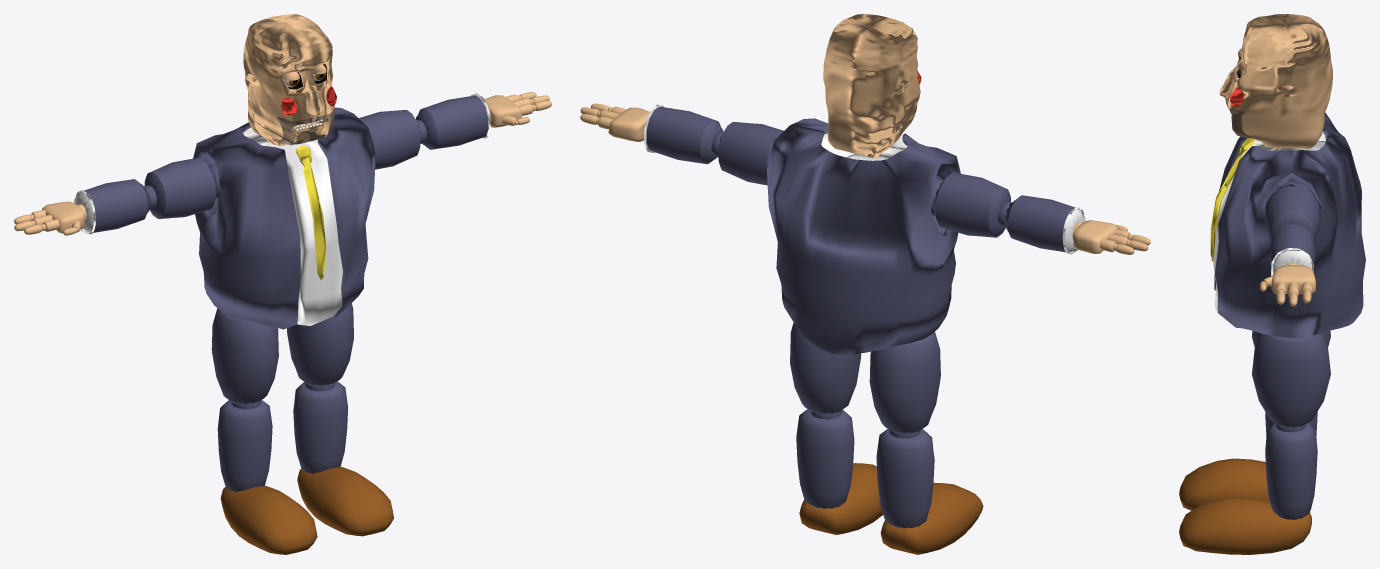
The model's file is AnimatronicWolf.fbx.
The picture shows the model from 3 angles, left to right: view 1: azimuth 30°, elevation 25°; view 2: azimuth 150°, elevation 25°; view 3: azimuth 270°, elevation 25°; orthographic projection. The views are drawn at different scales.
Parts seen in each view (by area): view 1: Torso, Head, polySurface146, polySurface145, polySurface140, polySurface147, polySurface142, polySurface141, polySurface163, polySurface128, polySurface156, polySurface135 (+2 smaller); view 2: Torso, Head, polySurface146, polySurface147, polySurface142, polySurface141, polySurface145, polySurface163, polySurface128, polySurface156, polySurface140, polySurface135 (+2 smaller); view 3: Torso, Head, polySurface141, polySurface140, polySurface142, polySurface145, polySurface135, polySurface128, polySurface137.
Part boxes in pixels (x1,y1,x2,y2): Torso: (193, 107, 375, 329); Head: (243, 14, 336, 146); polySurface146: (211, 308, 278, 404); polySurface145: (220, 485, 317, 554); polySurface140: (297, 466, 393, 536); polySurface147: (217, 400, 272, 491); polySurface142: (293, 381, 348, 473); polySurface141: (287, 303, 353, 386); polySurface163: (144, 157, 217, 218); polySurface128: (416, 93, 490, 149); polySurface156: (74, 179, 150, 234); polySurface135: (359, 110, 420, 169); Torso: (767, 118, 960, 354); Head: (823, 14, 921, 158); polySurface146: (869, 331, 940, 434); polySurface147: (876, 429, 934, 528); polySurface142: (796, 409, 854, 508); polySurface141: (790, 322, 861, 414); polySurface145: (880, 483, 983, 554); polySurface163: (933, 172, 1010, 237); polySurface128: (644, 104, 723, 164); polySurface156: (1004, 195, 1085, 254); polySurface140: (799, 463, 883, 534); polySurface135: (718, 122, 783, 185); Torso: (1210, 112, 1365, 337); Head: (1219, 14, 1332, 149); polySurface141: (1252, 333, 1330, 428); polySurface140: (1179, 497, 1311, 554); polySurface142: (1265, 423, 1317, 519); polySurface145: (1179, 458, 1269, 510); polySurface135: (1265, 186, 1319, 241); polySurface128: (1269, 224, 1315, 276); polySurface137: (1271, 265, 1315, 293).
Size of the model in its own units: 55.07 by 48.1 by 16.19.
